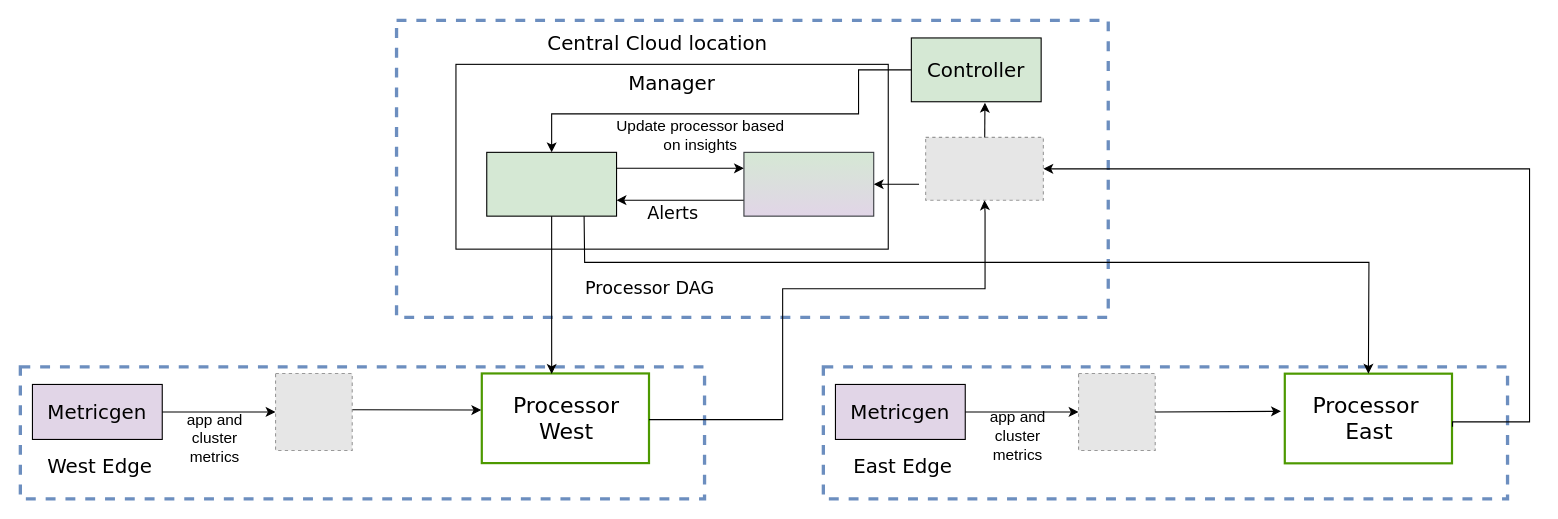
The diagram is 1558 pixels wide and 519 high, and some of its shapes have lost their labels. Grey dashed boxes stand in for pictures. The centre of each missing label's shape, as x and y in pixels:
"Alert Managemer" goes at (x=808, y=183).
"Configurator" goes at (x=551, y=183).
